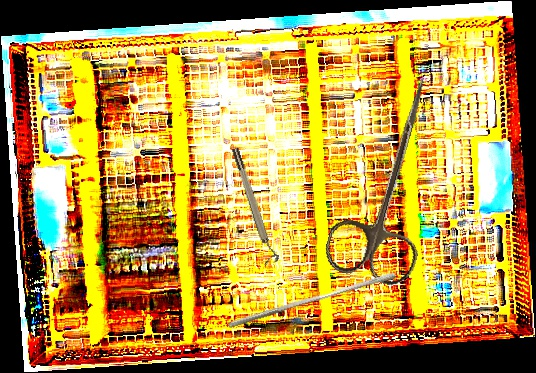Fixation Ring: (229, 145, 281, 266)
Iris Scissors: (320, 64, 463, 291)
Pusher: (227, 266, 397, 335)
